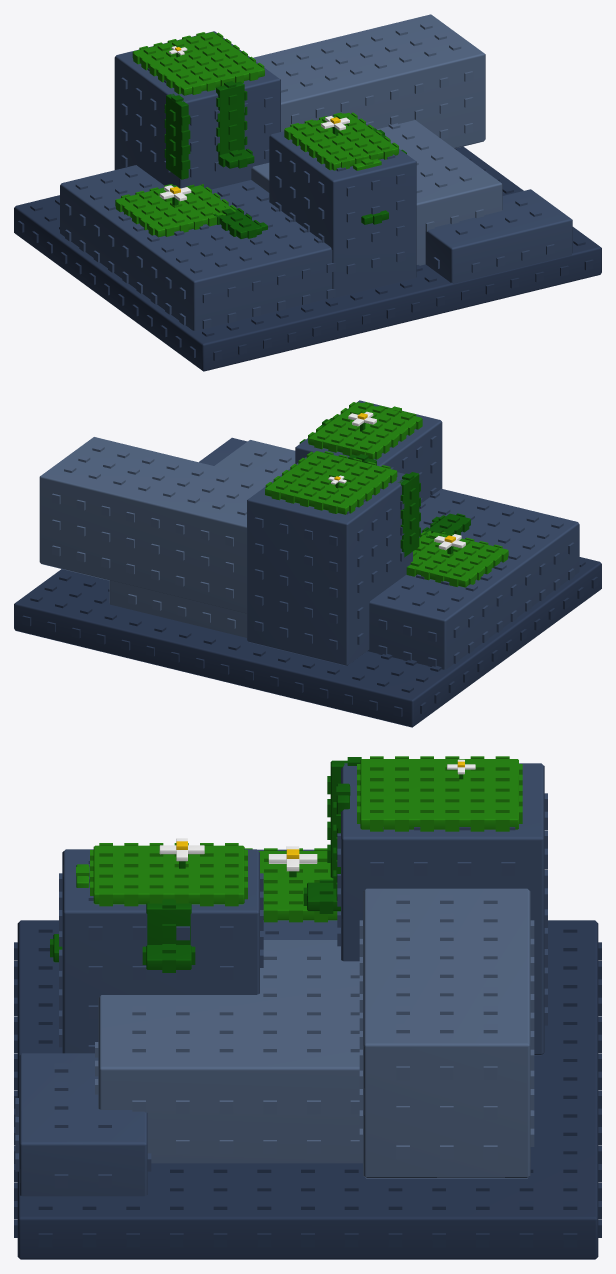
The model's file is BrickRockIsland.glb.
The picture shows the model from 3 angles, top to bottom: view 1: azimuth 30°, elevation 25°; view 2: azimuth 150°, elevation 25°; view 3: azimuth 270°, elevation 25°; orthographic projection. The views are drawn at different scales.
Visible parts, largest first — view 1: BrickRockIsland; view 2: BrickRockIsland; view 3: BrickRockIsland.
Boxes of the visible parts, left/top/right/bottom form: BrickRockIsland: left=14, top=14, right=601, bottom=371; BrickRockIsland: left=14, top=400, right=601, bottom=727; BrickRockIsland: left=14, top=756, right=601, bottom=1259.
Bounding box in the file's own units: 11.92 × 5.33 × 9.82.
1 material, 1 textured.
